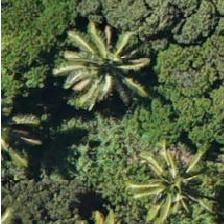coconut_tree: (68, 20, 158, 110), (136, 142, 223, 223)
